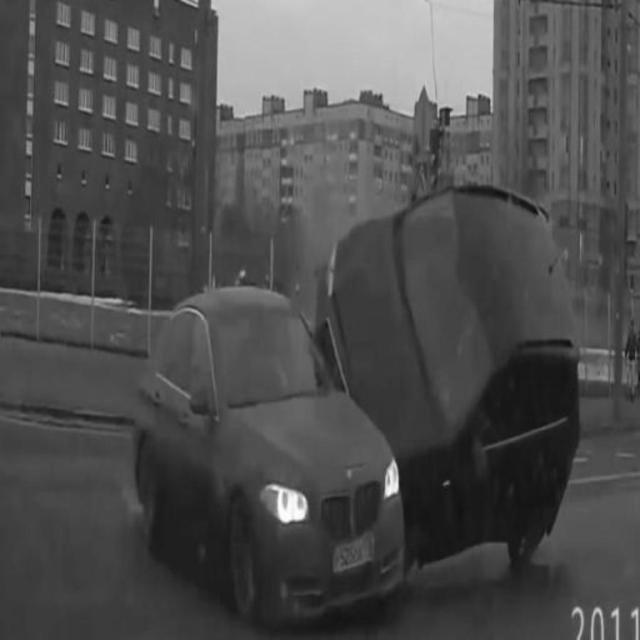accident: (131, 186, 579, 619)
